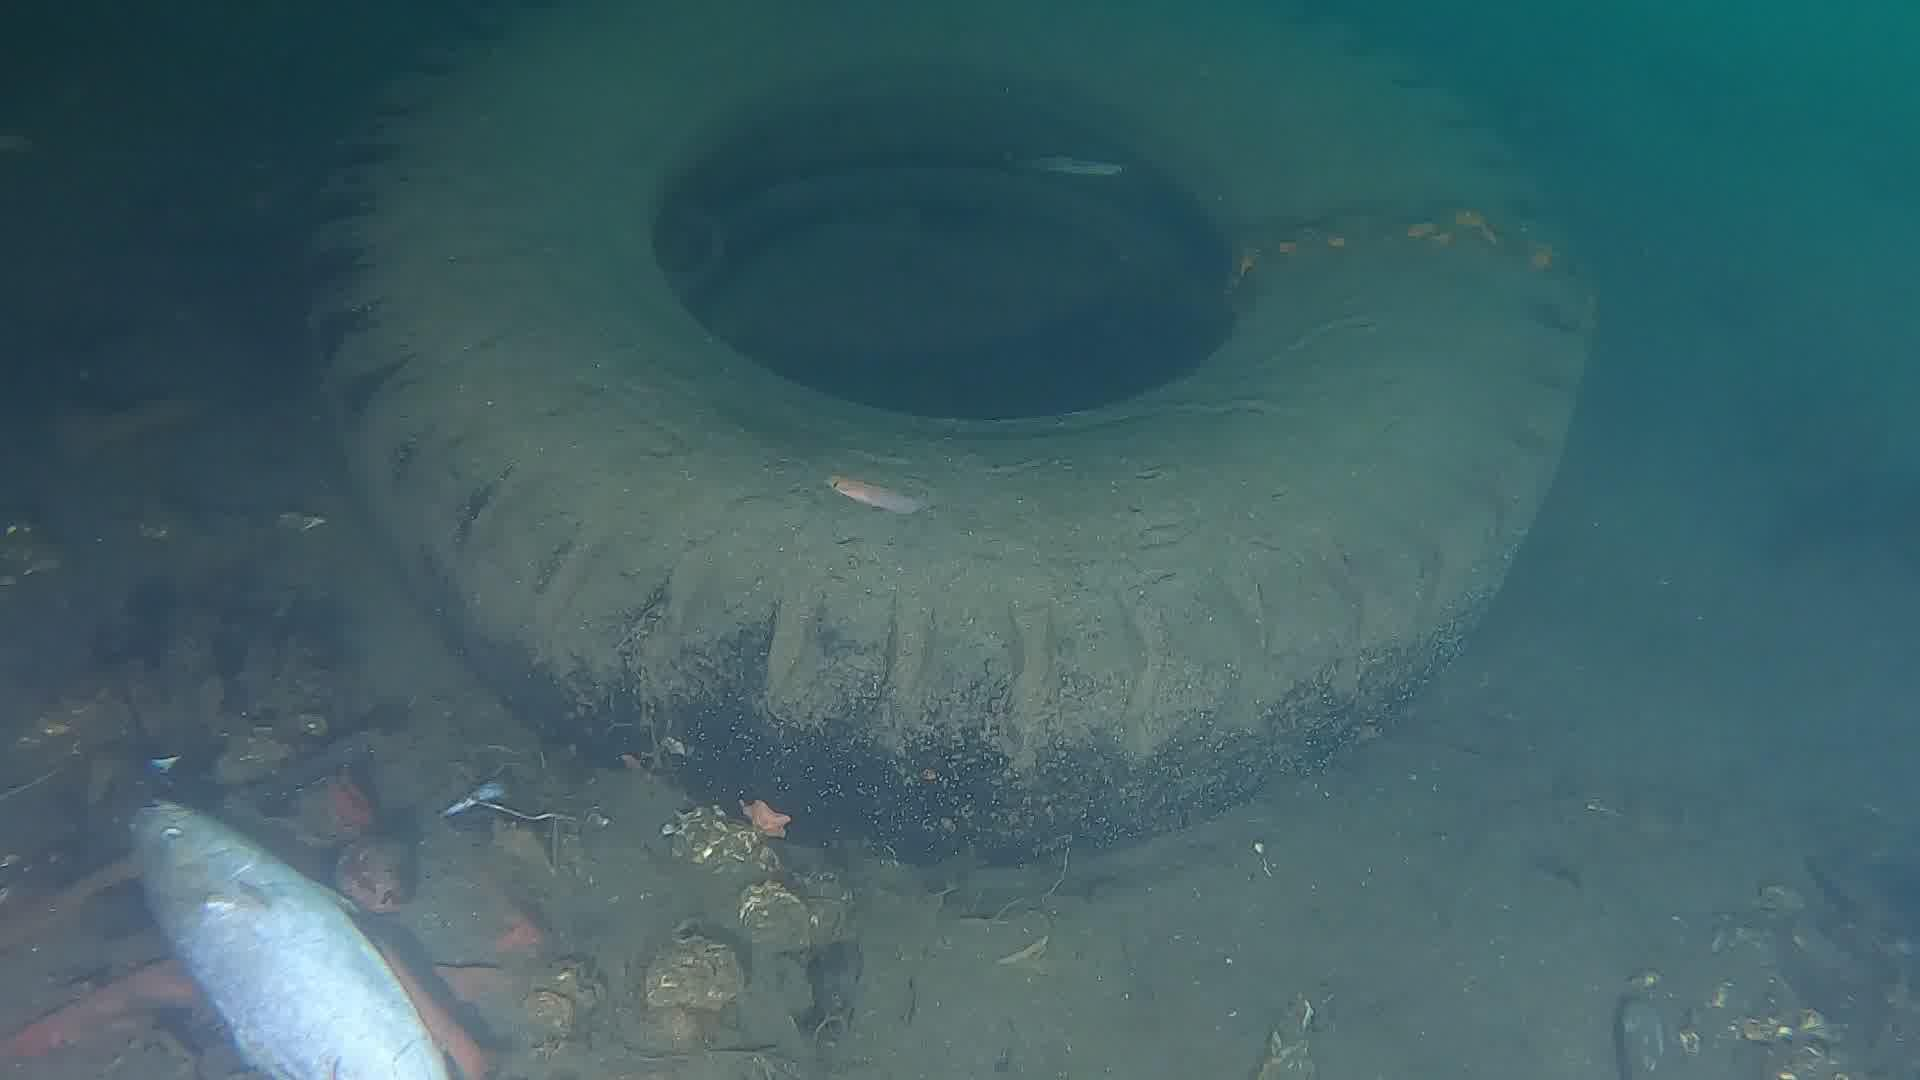tire: (305, 0, 1604, 868)
